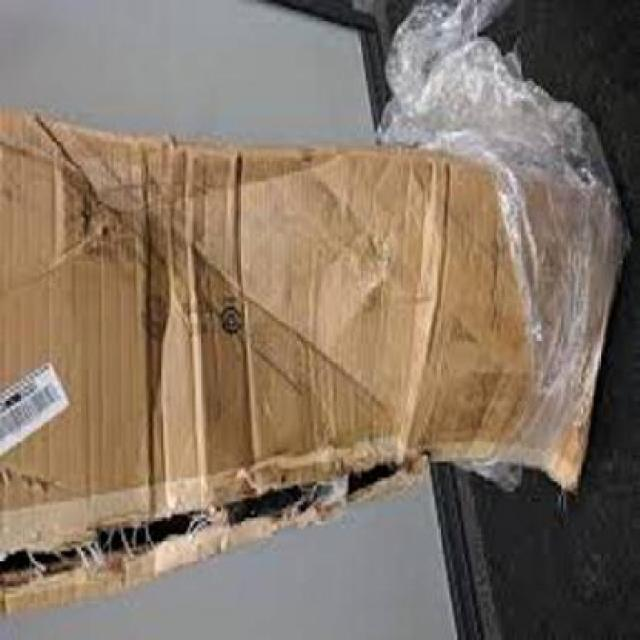defect: (2, 97, 616, 628)
